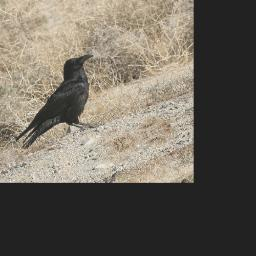Crow: (0, 50, 123, 155)
